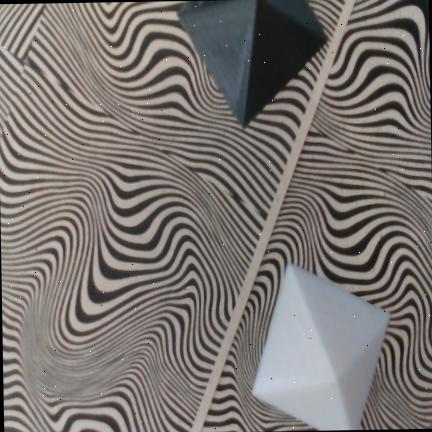Piramide: (251, 262, 391, 429), (177, 0, 328, 126)
